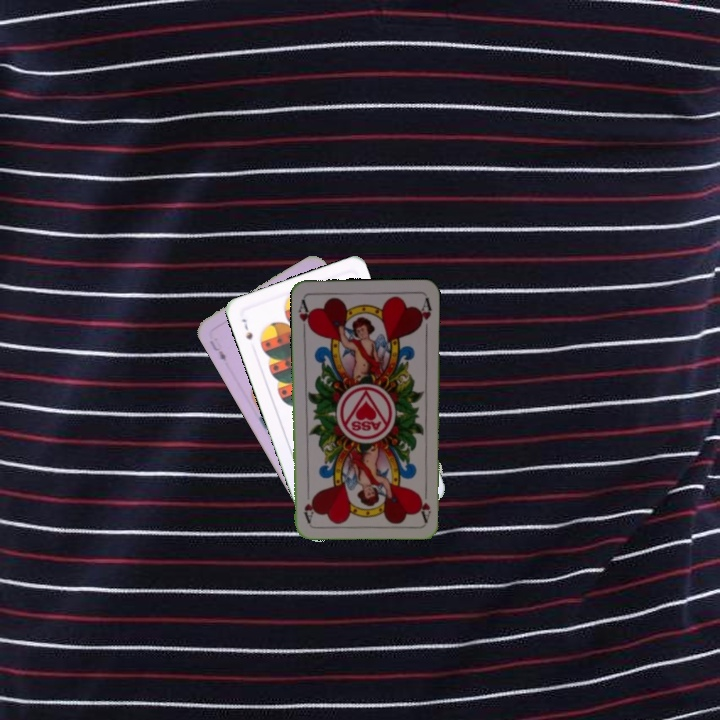EU: (205, 336, 229, 364)
HA: (294, 295, 314, 335), (416, 483, 433, 523)
S7: (237, 315, 255, 342)
